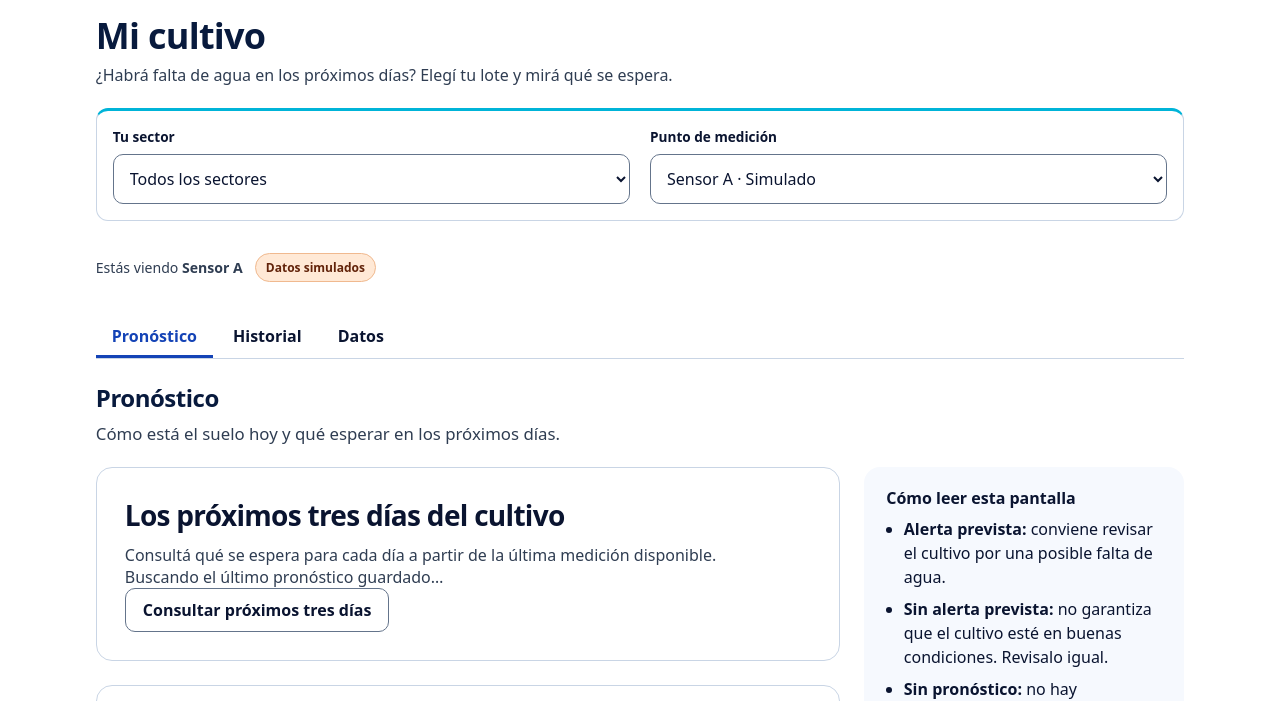
Scenario: ProducerView › summarizes the combined alert across horizons without inventing a percentage, and clears it on sensor change
This screenshot has width=1280, height=701.
Click the button "Consultar próximos tres días".
click(257, 610)  # box x1=125 y1=588 x2=389 y2=632
(page scrolled)
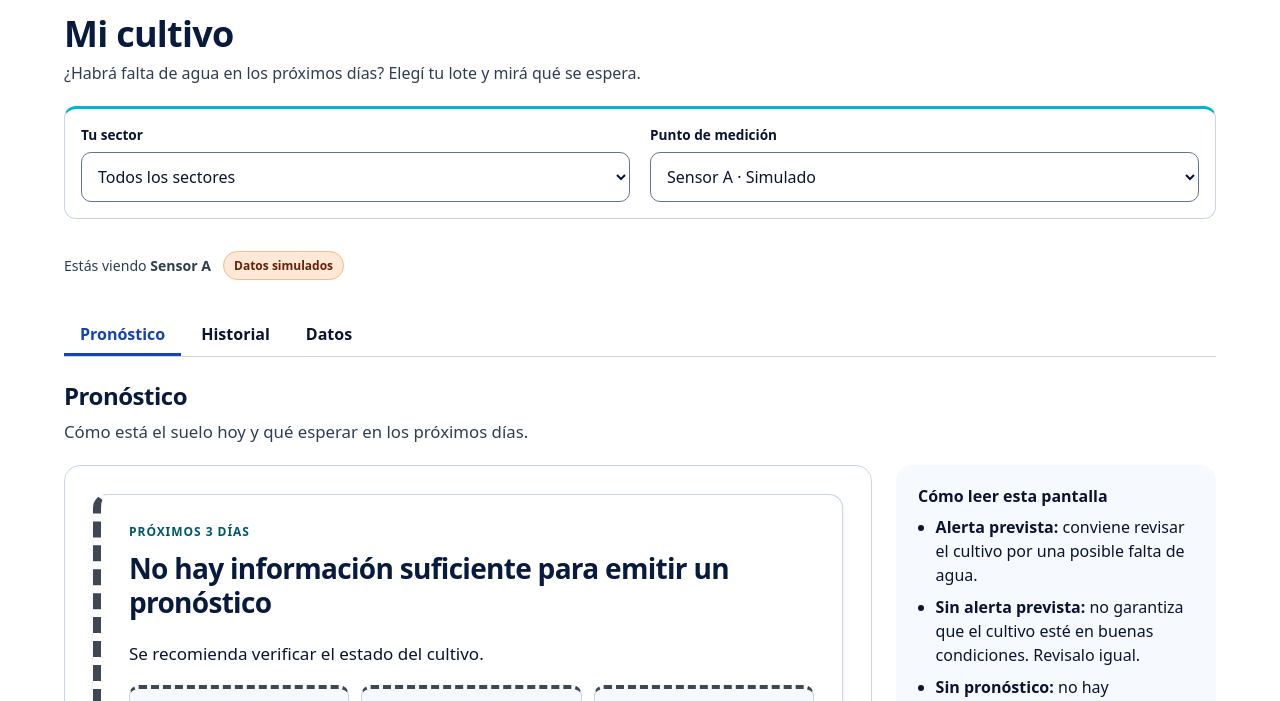
Expected: the heading "No hay información suficiente para emitir un pronóstico" is shown, x1=129 y1=552 x2=814 y2=620
